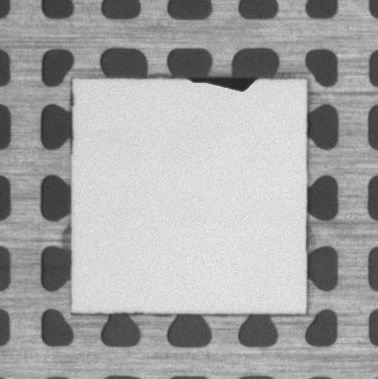DIE_BROKEN: (190, 76, 261, 92)
